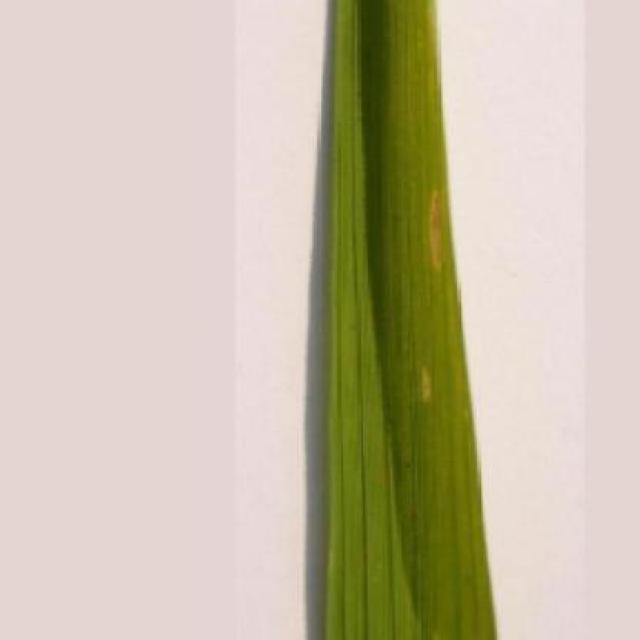Brown_Spot: (316, 0, 498, 640)
